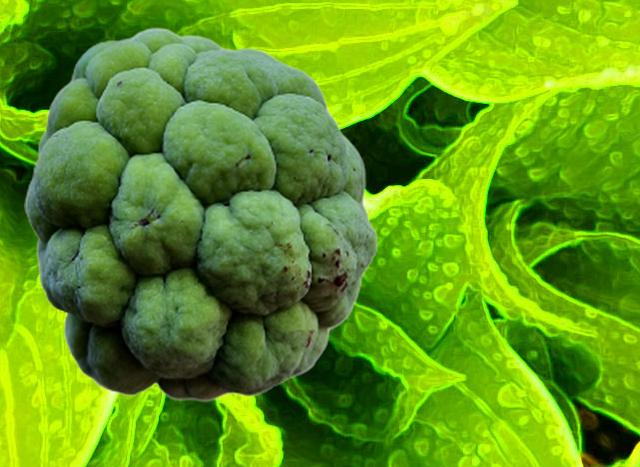atis: (24, 26, 377, 402)
